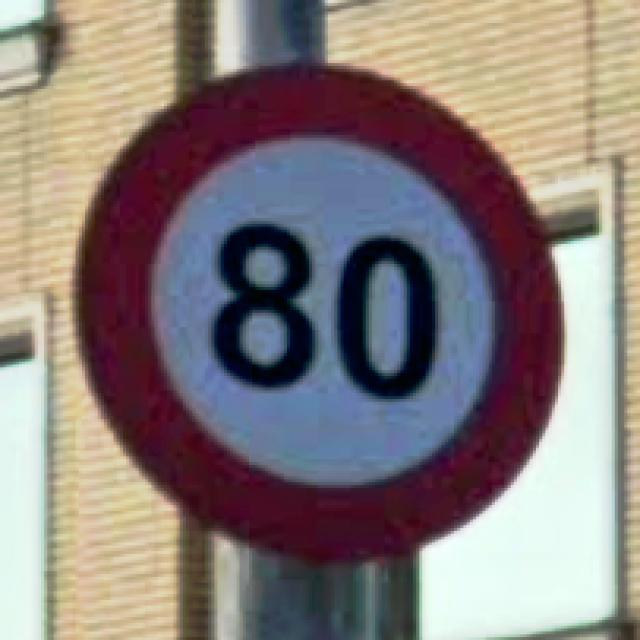max80: (70, 54, 568, 566)
